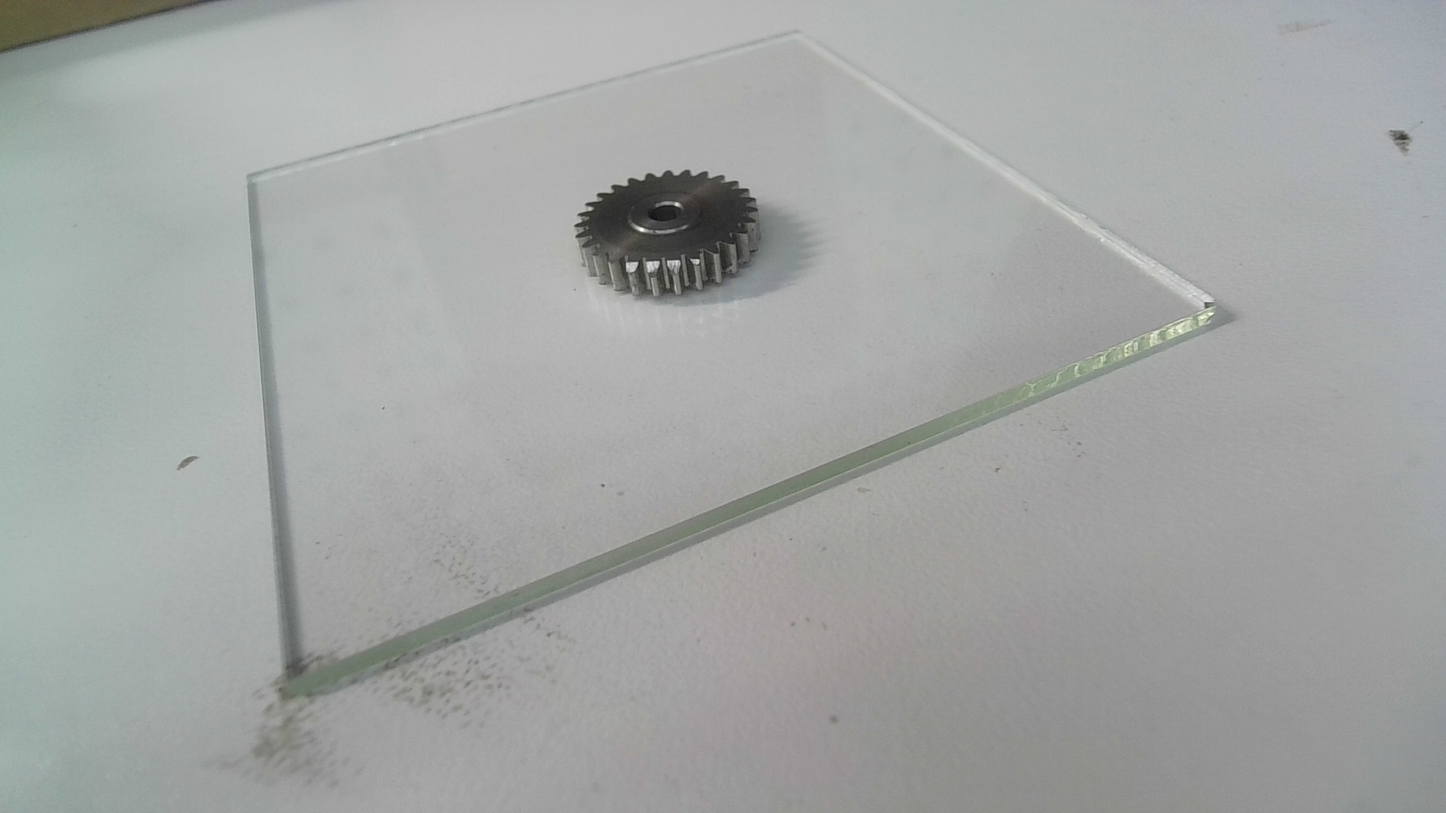gear: (572, 167, 768, 299)
